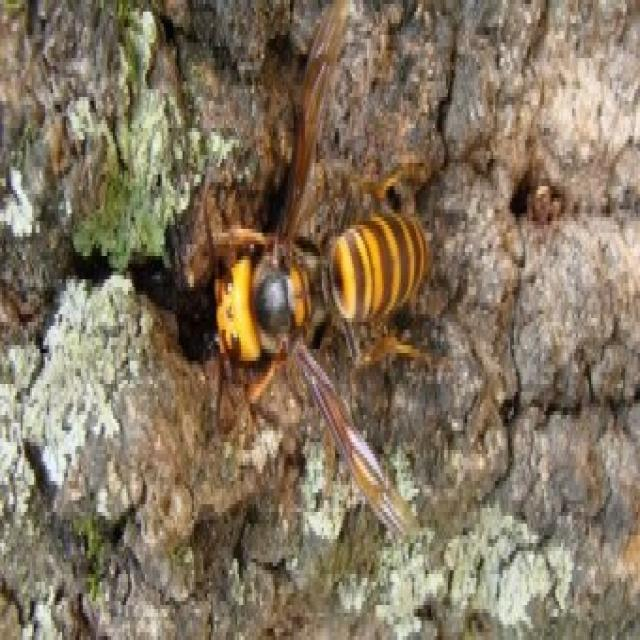Wasp: (204, 156, 414, 533)
